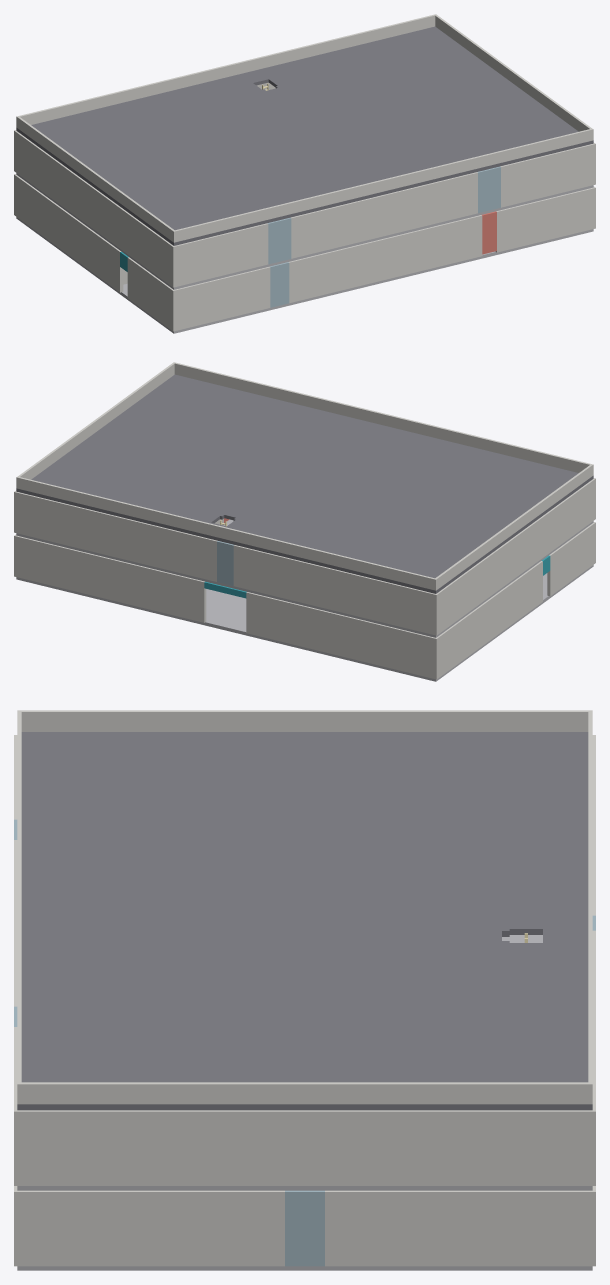
Rendered from warehouse_a02.glb.
3 views of the same model, one above another, from view 1: azimuth 30°, elevation 25°; view 2: azimuth 150°, elevation 25°; view 3: azimuth 270°, elevation 25° (orthographic). The views are drawn at different scales.
Visible parts, largest first — view 1: slab_2_t1_1, slab_2_t1_2, slab_2_t1_5, slab_2_t1_6, slab_2_t2_2, slab_2_t2_6, slab_2_t4_3, slab_2_t1_3, slab_2_t3_3, slab_2_t3_4, slab_2_t3_6, slab_2_t4_4 (+112 smaller); view 2: slab_2_t1_3, slab_2_t3_2, slab_2_t3_6, slab_2_t4_1, slab_2_t4_2, slab_2_t4_5, slab_2_t4_6, slab_2_t1_4, slab_2_t2_3, slab_2_t2_4, slab_2_t2_6, slab_2_t4_3 (+115 smaller); view 3: slab_2_t1_2, slab_2_t1_3, slab_2_t1_6, slab_2_t2_2, slab_2_t2_3, slab_2_t2_6, slab_2_t3_2, slab_2_t3_3, slab_2_t3_6, slab_2_t4_2, slab_2_t4_3, slab_2_t4_6 (+75 smaller).
Boxes of the visible parts, <box> form: slab_2_t1_1: <box>174,179,251,210</box>; slab_2_t1_2: <box>226,166,304,197</box>; slab_2_t1_5: <box>384,127,461,159</box>; slab_2_t1_6: <box>436,115,514,146</box>; slab_2_t2_2: <box>200,146,278,178</box>; slab_2_t2_6: <box>410,95,488,127</box>; slab_2_t4_3: <box>200,95,278,127</box>; slab_2_t1_3: <box>279,153,356,184</box>; slab_2_t3_3: <box>226,114,304,146</box>; slab_2_t3_4: <box>279,102,356,133</box>; slab_2_t3_6: <box>384,76,461,108</box>; slab_2_t4_4: <box>253,82,330,114</box>; slab_2_t1_3: <box>331,443,409,475</box>; slab_2_t3_2: <box>331,494,409,526</box>; slab_2_t3_6: <box>121,443,199,475</box>; slab_2_t4_1: <box>358,527,435,558</box>; slab_2_t4_2: <box>305,514,383,545</box>; slab_2_t4_5: <box>148,475,225,507</box>; slab_2_t4_6: <box>95,463,173,494</box>; slab_2_t1_4: <box>279,430,356,462</box>; slab_2_t2_3: <box>305,462,383,494</box>; slab_2_t2_4: <box>253,450,330,481</box>; slab_2_t2_6: <box>148,424,225,456</box>; slab_2_t4_3: <box>253,501,330,532</box>; slab_2_t1_2: <box>113,823,208,870</box>; slab_2_t1_3: <box>113,870,208,917</box>; slab_2_t1_6: <box>113,1010,208,1057</box>; slab_2_t2_2: <box>209,823,304,870</box>; slab_2_t2_3: <box>209,870,304,917</box>; slab_2_t2_6: <box>209,1010,304,1057</box>; slab_2_t3_2: <box>305,823,400,870</box>; slab_2_t3_3: <box>305,870,400,917</box>; slab_2_t3_6: <box>305,1010,400,1057</box>; slab_2_t4_2: <box>401,823,496,870</box>; slab_2_t4_3: <box>401,870,496,917</box>; slab_2_t4_6: <box>401,1010,496,1057</box>.
Size of what is drawn, in the model's own units: 40.3 by 9.3 by 26.3.
